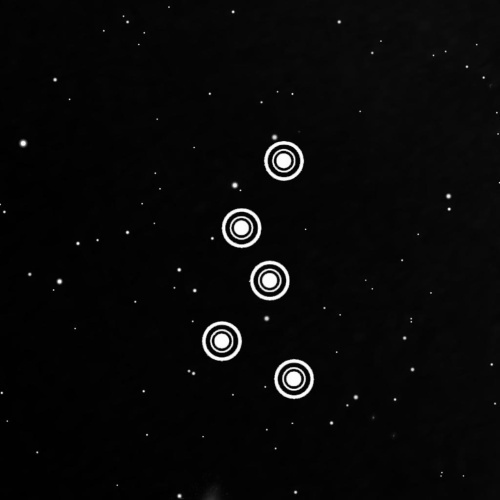cassiopeia: (185, 128, 322, 407)
